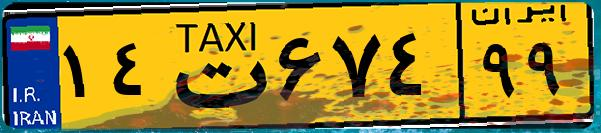1: (57, 26, 110, 100)
4: (385, 28, 445, 110), (110, 28, 158, 98)
6: (270, 28, 330, 110)
7: (330, 28, 385, 110)
9: (475, 38, 525, 113), (525, 38, 570, 115)
ت: (158, 12, 270, 120)
